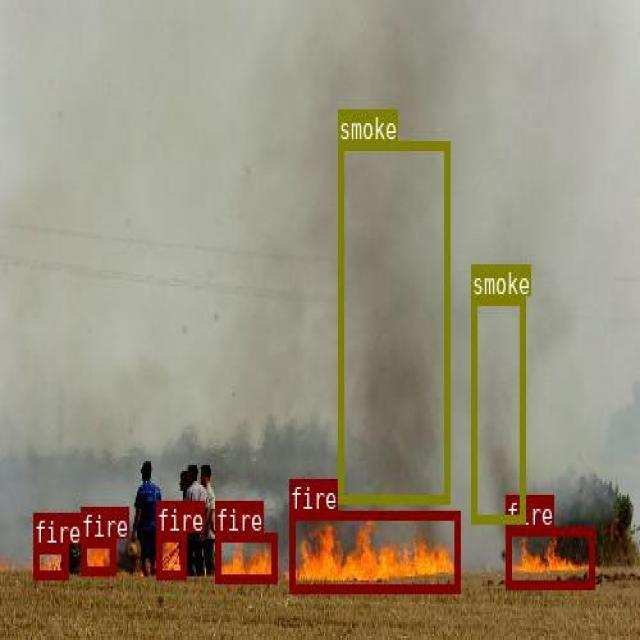fire: (289, 511, 458, 592), (505, 526, 594, 587), (214, 532, 275, 581), (155, 533, 185, 577), (81, 538, 115, 574), (33, 543, 67, 577)
smoke: (337, 141, 448, 502), (470, 294, 524, 521)
